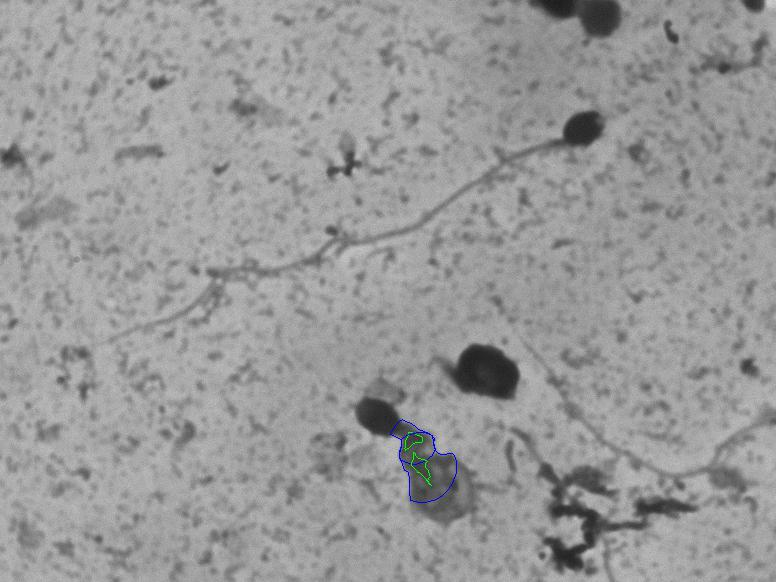Abnormal: (77, 95, 614, 364)
